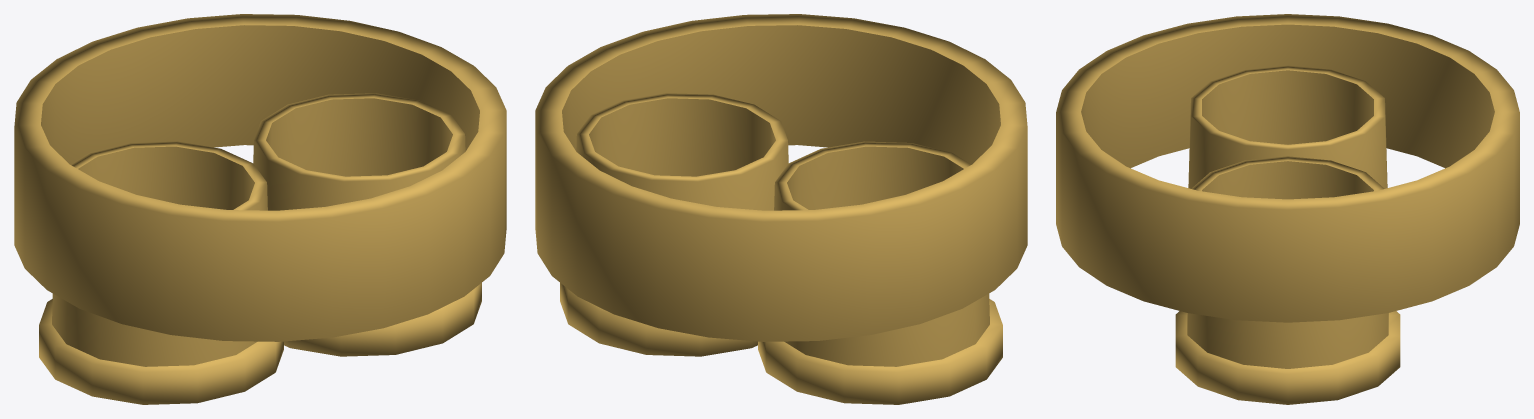
Rendered from cargo_shorts.glb.
3 renders of one model, left to right at view 1: azimuth 30°, elevation 25°; view 2: azimuth 150°, elevation 25°; view 3: azimuth 270°, elevation 25°, orthographic. The views are drawn at different scales.
Parts seen in each view (by area): view 1: cargo_shorts_Body, cargo_shorts_LegL, cargo_shorts_LegR; view 2: cargo_shorts_Body, cargo_shorts_LegL, cargo_shorts_LegR; view 3: cargo_shorts_Body, cargo_shorts_LegR, cargo_shorts_LegL.
Part boxes in pixels (<box>): cargo_shorts_Body: <box>14,14,506,341</box>; cargo_shorts_LegL: <box>39,141,283,404</box>; cargo_shorts_LegR: <box>253,93,481,356</box>; cargo_shorts_Body: <box>535,14,1027,341</box>; cargo_shorts_LegL: <box>758,141,1002,404</box>; cargo_shorts_LegR: <box>560,93,788,356</box>; cargo_shorts_Body: <box>1056,14,1519,322</box>; cargo_shorts_LegR: <box>1175,156,1400,404</box>; cargo_shorts_LegL: <box>1188,65,1387,188</box>.
Bounding box in the file's own units: 0.41 × 0.194 × 0.41.
